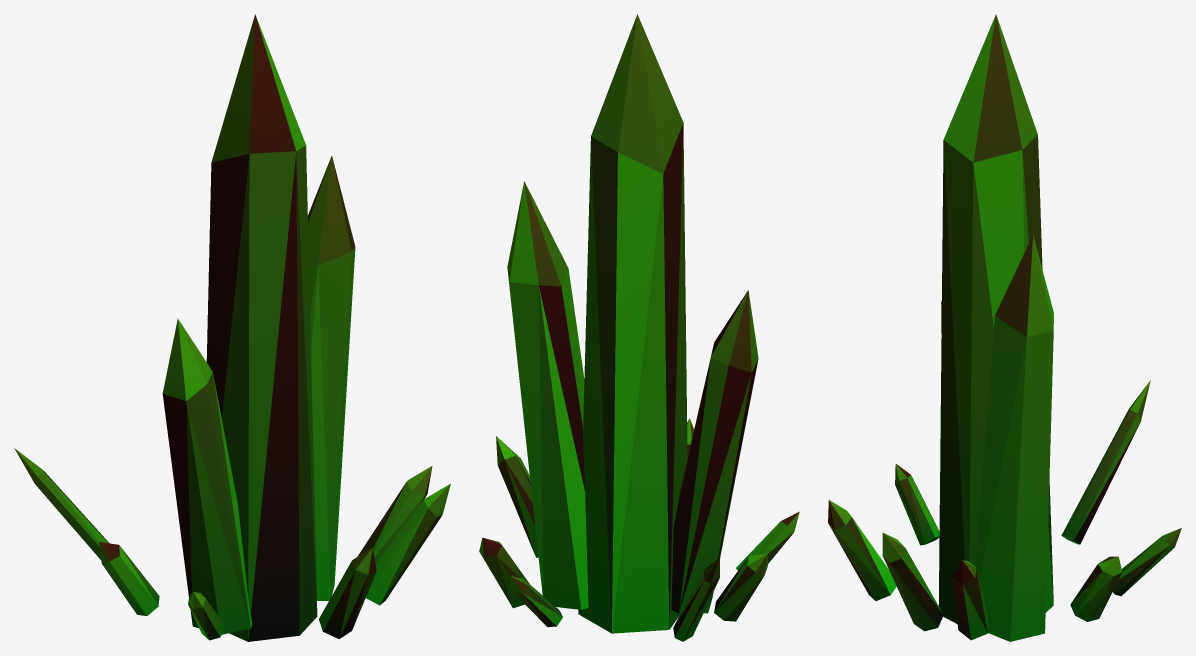
The model's file is Crystal_Cluster_01.fbx.
3 renders of one model, left to right at view 1: azimuth 30°, elevation 25°; view 2: azimuth 150°, elevation 25°; view 3: azimuth 270°, elevation 25°, orthographic.
Visible parts, largest first — view 1: Crystal_Cluster_part_A, Crystal_Cluster_part_C, Crystal_Cluster_part_B, Crystal_Cluster_part_07, Crystal_Cluster_part_06, Crystal_Cluster_part_00, Crystal_Cluster_part_04, Crystal_Cluster_part_03, Crystal_Cluster_part_05; view 2: Crystal_Cluster_part_A, Crystal_Cluster_part_B, Crystal_Cluster_part_C, Crystal_Cluster_part_00, Crystal_Cluster_part_04, Crystal_Cluster_part_03, Crystal_Cluster_part_01, Crystal_Cluster_part_02, Crystal_Cluster_part_05; view 3: Crystal_Cluster_part_A, Crystal_Cluster_part_B, Crystal_Cluster_part_03, Crystal_Cluster_part_06, Crystal_Cluster_part_07, Crystal_Cluster_part_00, Crystal_Cluster_part_01, Crystal_Cluster_part_05, Crystal_Cluster_part_02.
Part boxes in pixels (left/top/right/bottom): Crystal_Cluster_part_A: left=206, top=14, right=317, bottom=641; Crystal_Cluster_part_C: left=162, top=318, right=252, bottom=634; Crystal_Cluster_part_B: left=308, top=155, right=355, bottom=600; Crystal_Cluster_part_07: left=366, top=483, right=450, bottom=605; Crystal_Cluster_part_06: left=319, top=548, right=376, bottom=638; Crystal_Cluster_part_00: left=357, top=466, right=432, bottom=563; Crystal_Cluster_part_04: left=99, top=542, right=159, bottom=615; Crystal_Cluster_part_03: left=14, top=448, right=109, bottom=559; Crystal_Cluster_part_05: left=188, top=592, right=225, bottom=640; Crystal_Cluster_part_A: left=578, top=14, right=687, bottom=633; Crystal_Cluster_part_B: left=507, top=181, right=588, bottom=609; Crystal_Cluster_part_C: left=671, top=290, right=758, bottom=613; Crystal_Cluster_part_00: left=496, top=436, right=538, bottom=557; Crystal_Cluster_part_04: left=714, top=553, right=767, bottom=621; Crystal_Cluster_part_03: left=673, top=557, right=719, bottom=641; Crystal_Cluster_part_01: left=479, top=537, right=529, bottom=608; Crystal_Cluster_part_02: left=510, top=575, right=562, bottom=627; Crystal_Cluster_part_05: left=736, top=511, right=799, bottom=570; Crystal_Cluster_part_A: left=938, top=14, right=1053, bottom=623; Crystal_Cluster_part_B: left=975, top=235, right=1053, bottom=641; Crystal_Cluster_part_03: left=1061, top=380, right=1150, bottom=544; Crystal_Cluster_part_06: left=828, top=500, right=896, bottom=600; Crystal_Cluster_part_07: left=882, top=532, right=943, bottom=631; Crystal_Cluster_part_00: left=952, top=560, right=988, bottom=640; Crystal_Cluster_part_01: left=1070, top=556, right=1122, bottom=621; Crystal_Cluster_part_05: left=895, top=464, right=939, bottom=545; Crystal_Cluster_part_02: left=1113, top=528, right=1181, bottom=596.
Size of the model in its own units: 1.54 by 2.76 by 1.49.
